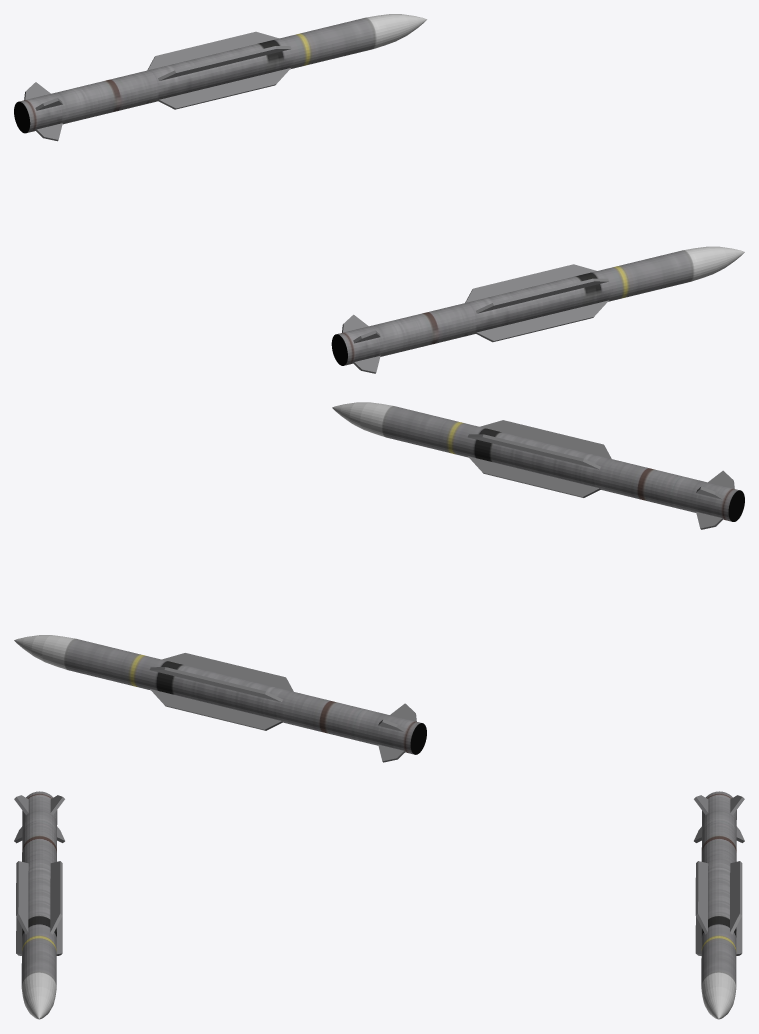
File: fa18faim174b14.glb
3 views of the same model, one above another, from view 1: azimuth 30°, elevation 25°; view 2: azimuth 150°, elevation 25°; view 3: azimuth 270°, elevation 25° (orthographic). The views are drawn at different scales.
Visible parts, largest first — view 1: 円柱.002, 円柱.004; view 2: 円柱.002, 円柱.004; view 3: 円柱.004, 円柱.002.
Boxes of the visible parts, x1,y1,x2,y2 form: 円柱.002: (331,246,744,373); 円柱.004: (14,14,426,141); 円柱.002: (332,402,744,529); 円柱.004: (14,635,426,762); 円柱.004: (694,791,744,1019); 円柱.002: (14,791,64,1019).
Bounding box in the file's own units: 5.79 × 0.5942 × 8.46.
Materials: 2 (1 with a texture image).
